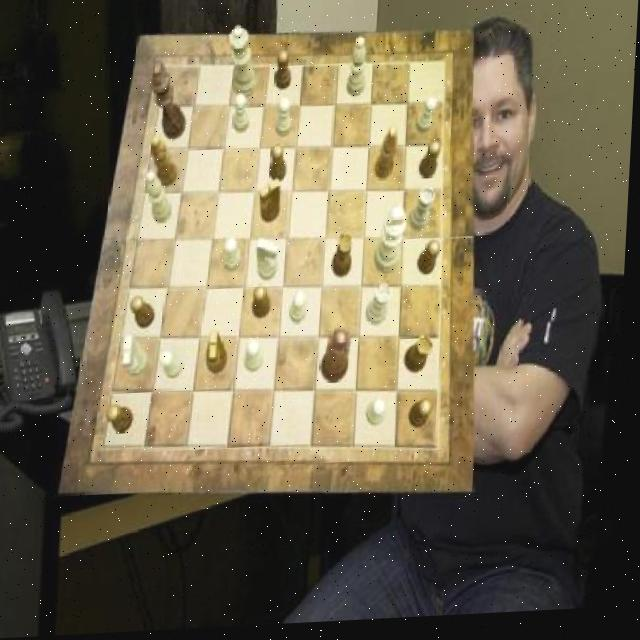bishop: (151, 135, 180, 191), (376, 131, 400, 186)
black-bishop: (149, 61, 189, 143)
black-king: (210, 331, 233, 376), (260, 182, 283, 227)
black-knight: (133, 296, 158, 331), (420, 145, 443, 183), (419, 245, 443, 280), (111, 406, 139, 435), (275, 52, 293, 93), (271, 148, 289, 187), (413, 405, 437, 433), (255, 287, 274, 322)
black-pawn: (324, 331, 355, 387)
black-queen: (407, 340, 436, 379), (334, 237, 356, 282)
black-rook: (146, 171, 175, 226), (347, 42, 368, 103)
white-bishop: (377, 211, 409, 278)
white-king: (124, 338, 152, 379), (258, 240, 282, 284)
white-knight: (417, 101, 438, 139), (276, 100, 294, 141), (162, 352, 187, 381), (234, 96, 251, 136), (226, 239, 245, 274), (248, 343, 267, 377), (293, 295, 312, 328), (369, 402, 390, 430)
white-pawn: (227, 28, 260, 101)
white-queen: (411, 192, 438, 237), (368, 288, 394, 331)
